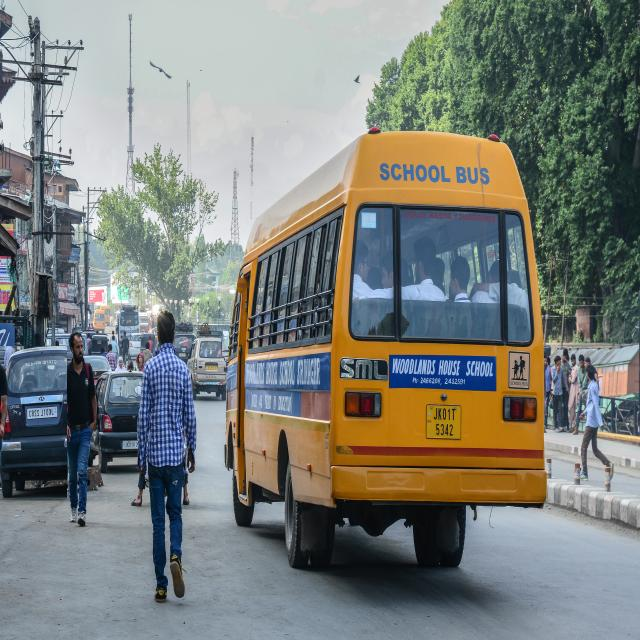bus: (225, 131, 545, 567)
car: (0, 346, 67, 499)
